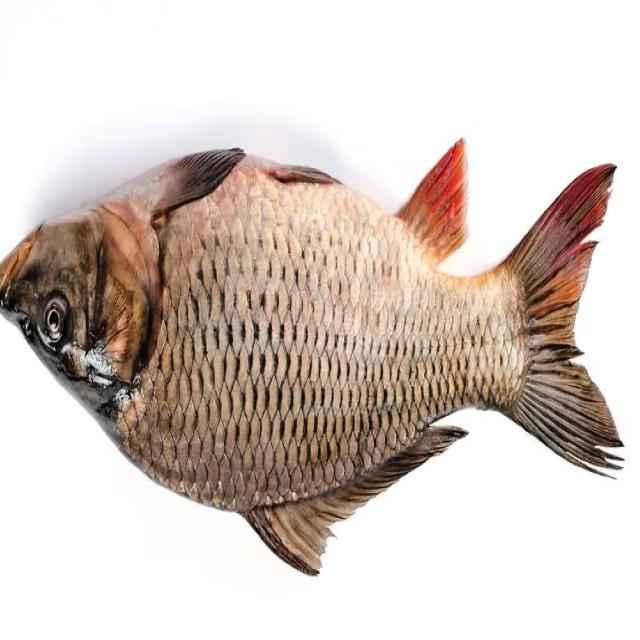Common carp: (0, 139, 623, 579)
